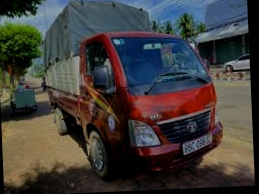Bien-so: (178, 149, 213, 172)
